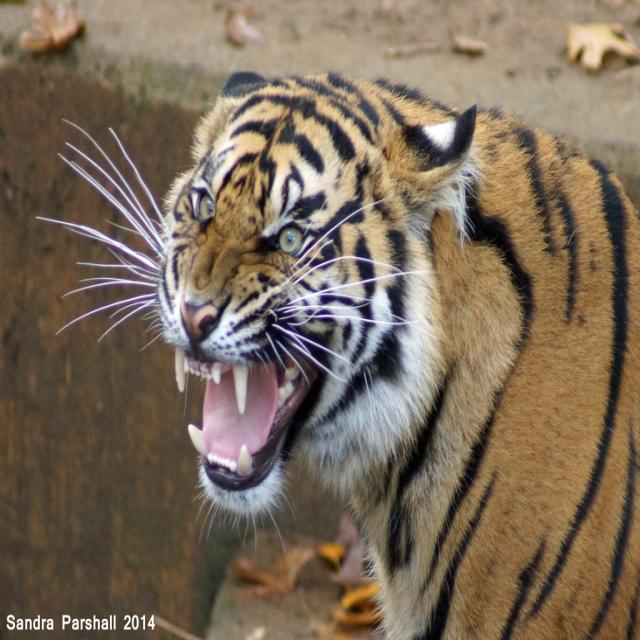Tiger: (33, 69, 638, 637)
